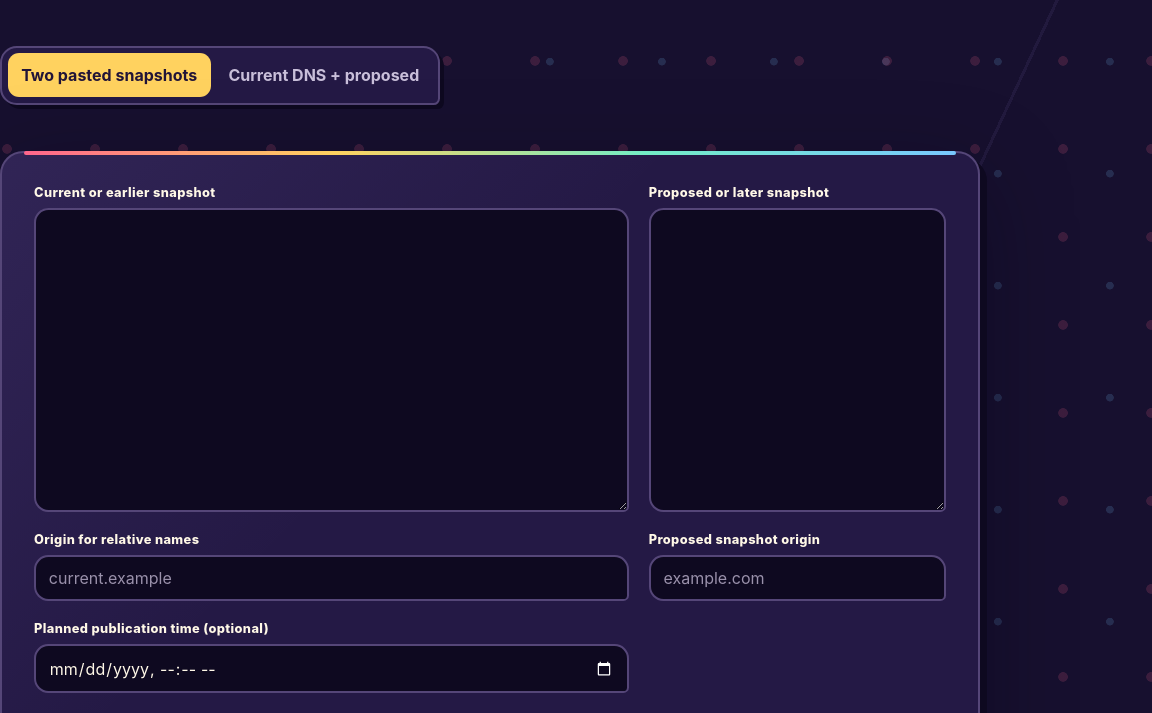
Test case: DNS Change Lab › blocks pasted input with www.example. 300 IN instead of producing a report
This screenshot has width=1152, height=713.
(page scrolled)
Step 1. Type "www.example. 300 IN" into the text box labelled "Current or earlier snapshot" → (331, 360), box 34,208 -> 629,512
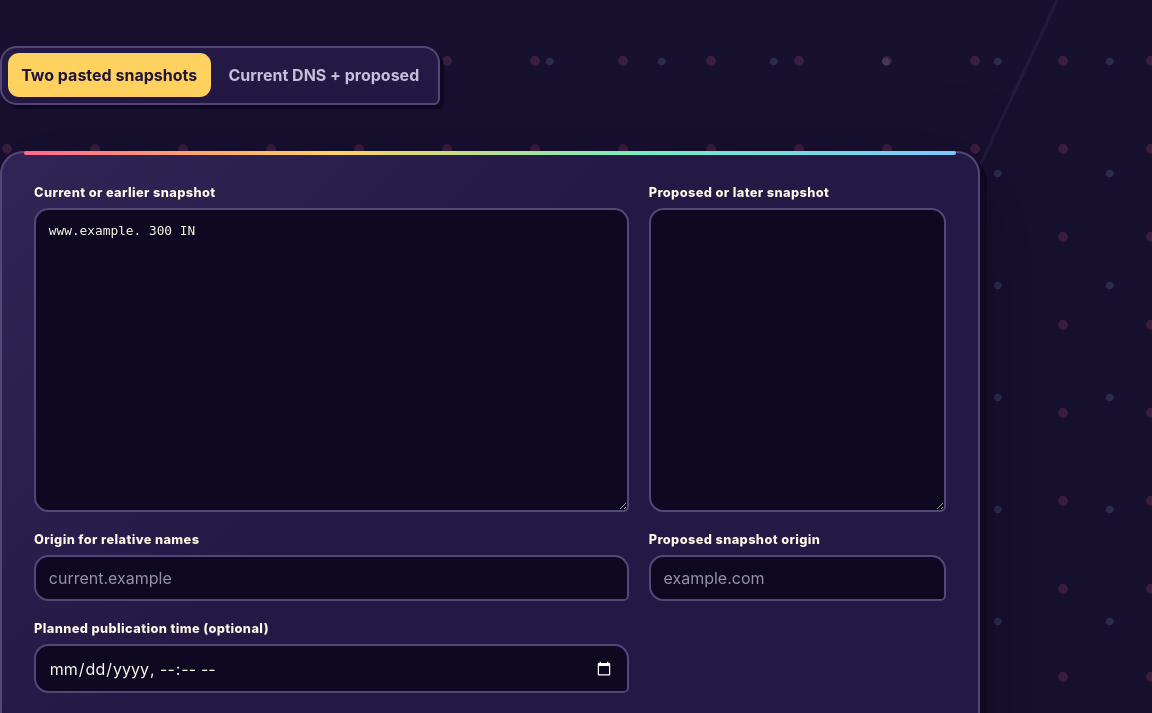
Step 2. Type "www.example. 300 IN A 192.0.2.2" into the text box labelled "Proposed or later snapshot" → (797, 360), box 649,208 -> 946,512
(page scrolled)
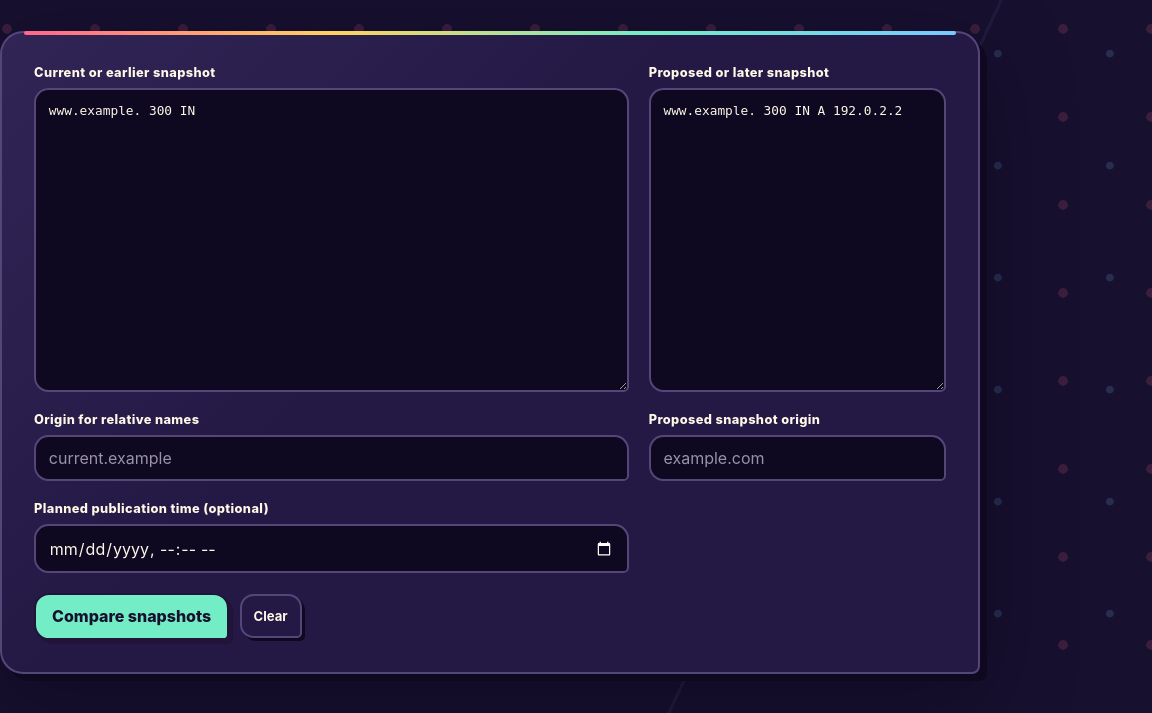
Step 3. Click the button "Compare snapshots" → (132, 616), box 34,593 -> 229,640
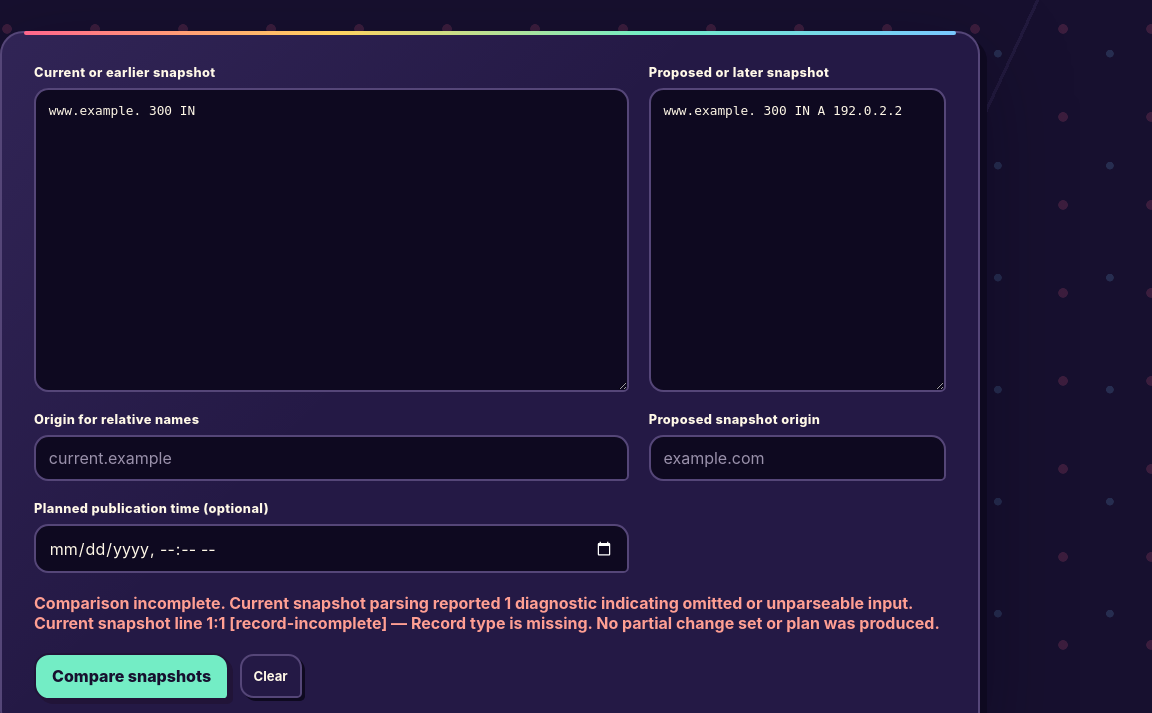
Now the message shows "record-incomplete", box 34,593 -> 940,633
Now the message shows "No partial change set or plan", box 34,593 -> 940,633
